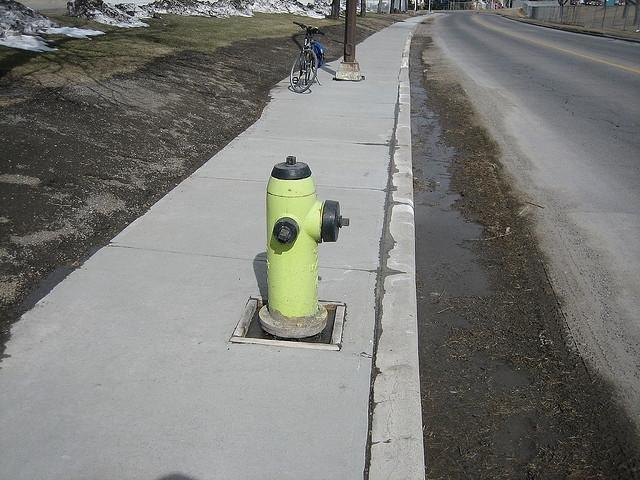bicycle: (290, 22, 325, 94)
